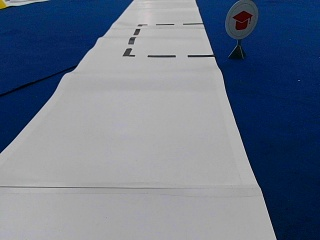school: (224, 2, 257, 38)
